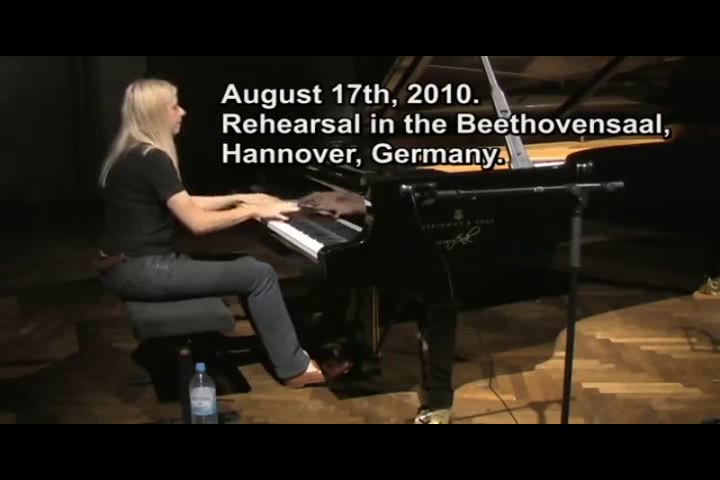keyboard: (229, 183, 369, 268)
